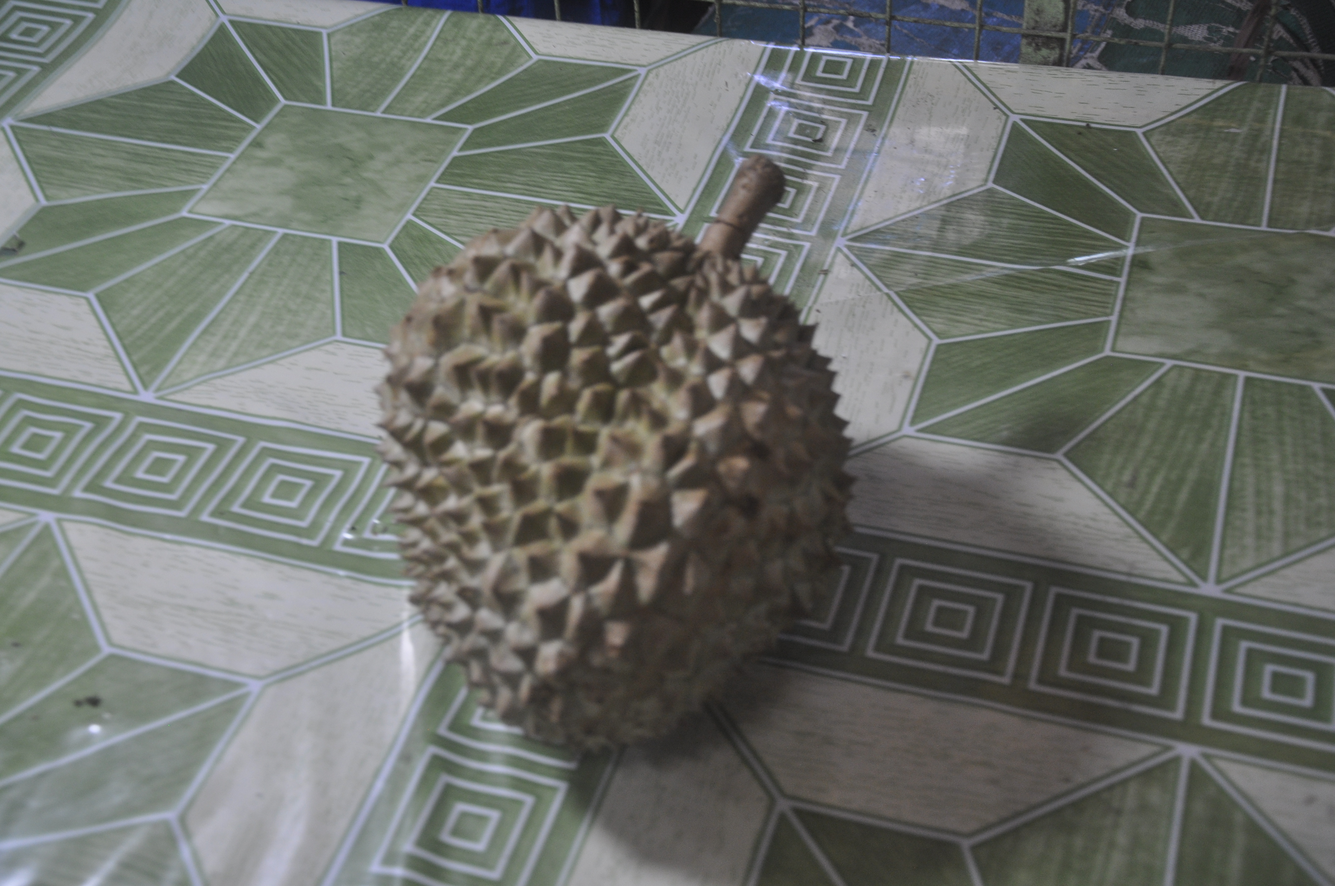mature: (379, 157, 851, 752)
